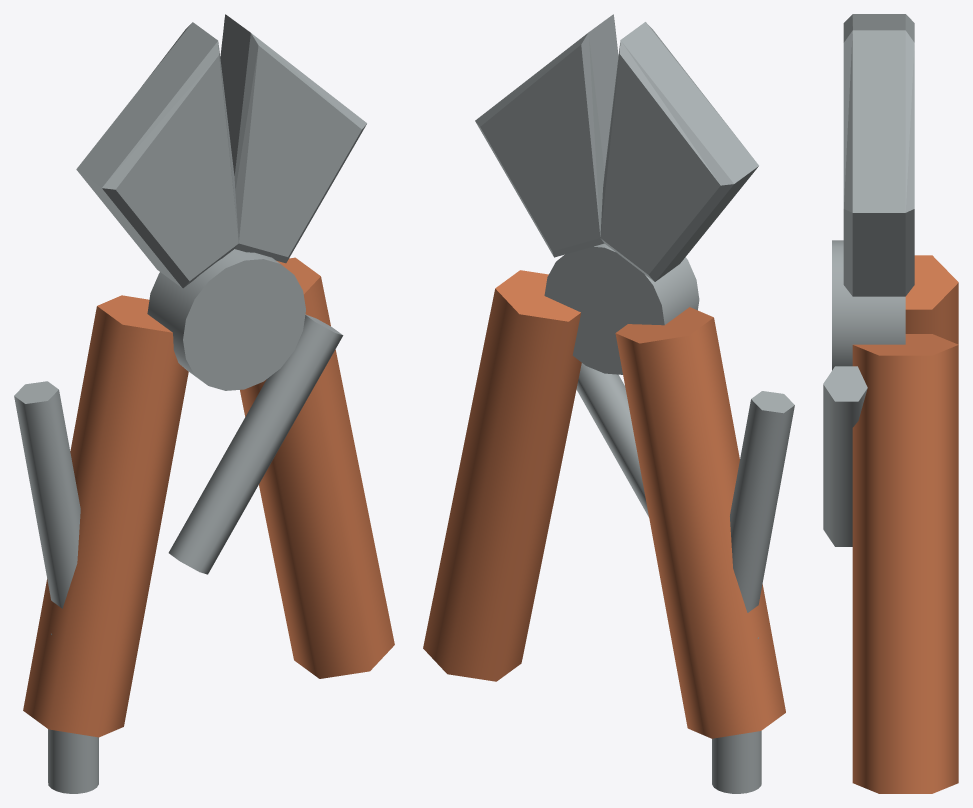
The model's file is salvage-and-repair-workshop-locking-pliers-9580fcfd__25463.glb.
The picture shows the model from 3 angles, left to right: view 1: azimuth 30°, elevation 25°; view 2: azimuth 150°, elevation 25°; view 3: azimuth 270°, elevation 25°; orthographic projection. The views are drawn at different scales.
Parts seen in each view (by area): view 1: locking-pliers; view 2: locking-pliers; view 3: locking-pliers.
Boxes of the visible parts, x1,y1,x2,y2 form: locking-pliers: (14,14,394,793); locking-pliers: (423,14,794,793); locking-pliers: (823,14,958,793).
Bounding box in the file's own units: 0.1471 × 0.284 × 0.046.
